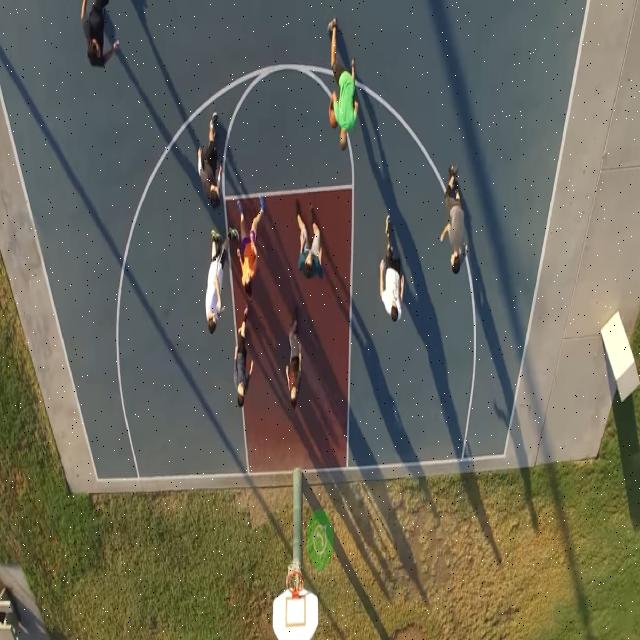humans: (325, 15, 359, 154), (204, 224, 238, 340), (440, 162, 472, 280), (78, 0, 122, 75), (379, 212, 407, 327), (237, 194, 265, 301), (196, 108, 222, 208), (293, 205, 324, 284), (232, 304, 253, 412), (285, 312, 304, 414)
